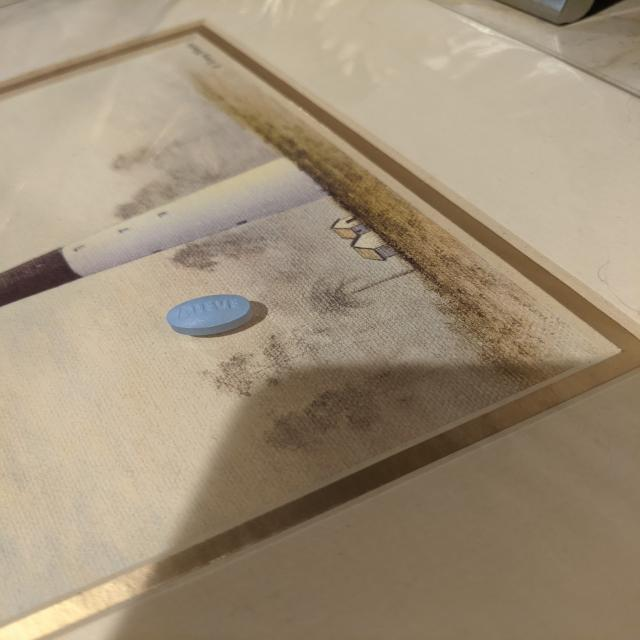non-organic waste: (166, 292, 254, 336)
